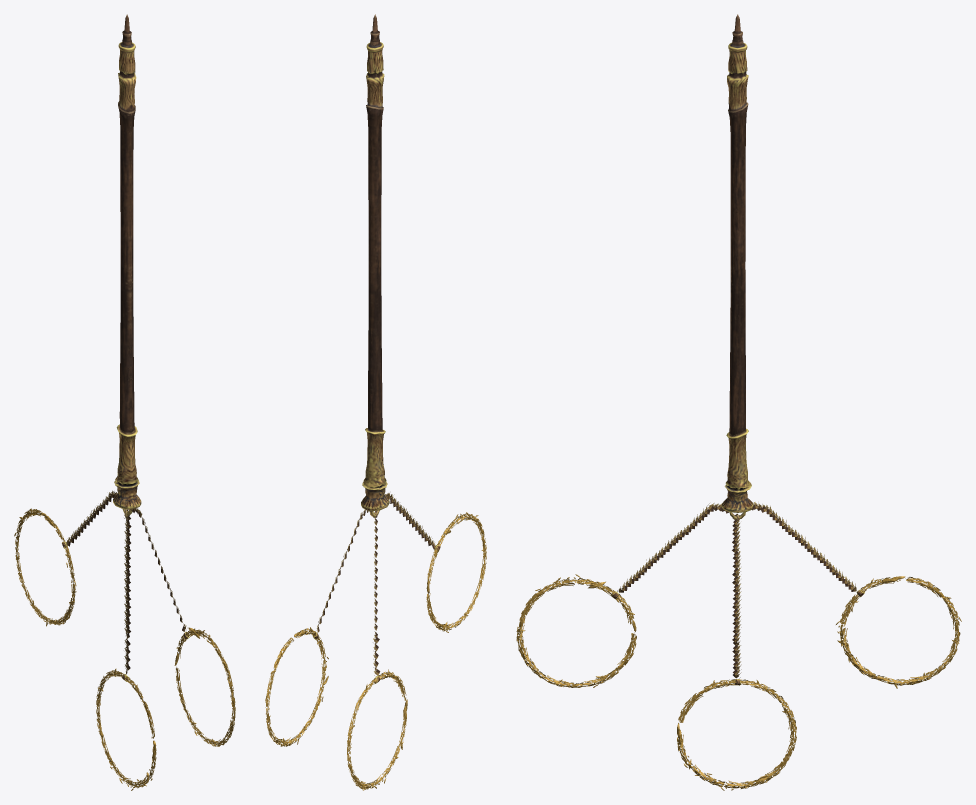
The model's file is weapon-wp_a_1258.glb.
3 views of the same model, side by side, from view 1: azimuth 30°, elevation 25°; view 2: azimuth 150°, elevation 25°; view 3: azimuth 270°, elevation 25° (orthographic).
Visible parts, largest first — view 1: wp_a_1258_mesh; view 2: wp_a_1258_mesh; view 3: wp_a_1258_mesh.
Boxes of the visible parts, <box> form: wp_a_1258_mesh: <box>14,14,235,790</box>; wp_a_1258_mesh: <box>265,14,486,790</box>; wp_a_1258_mesh: <box>516,14,961,790</box>.
Bounding box in the file's own units: 0.0448 × 1.39 × 0.7247.
3 materials, 3 textured.
